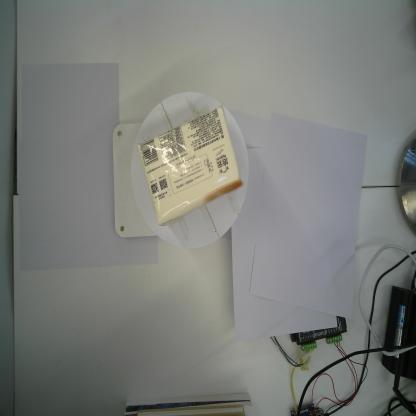Tissue: (136, 104, 245, 228)
